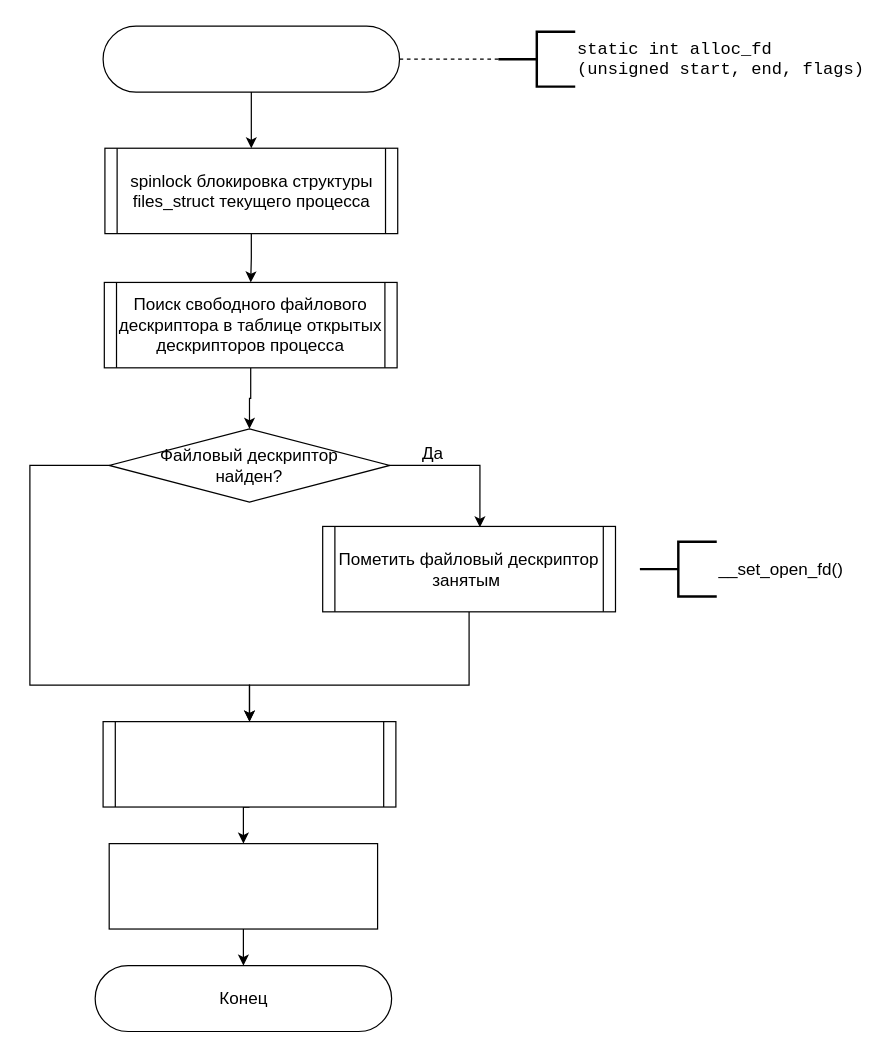
This 886x1053 diagram has some shape labels left out. The shapes that lost their labels are listed below. From the top down, each one's centre as x and y in pixels, then its label:
At (251,58): "Начало".
At (249,763): "Снятие spinlock блокировки со структуры files_struct текущего процесса".
At (243,885): "Возврат файлового дескриптора (если найден)".
